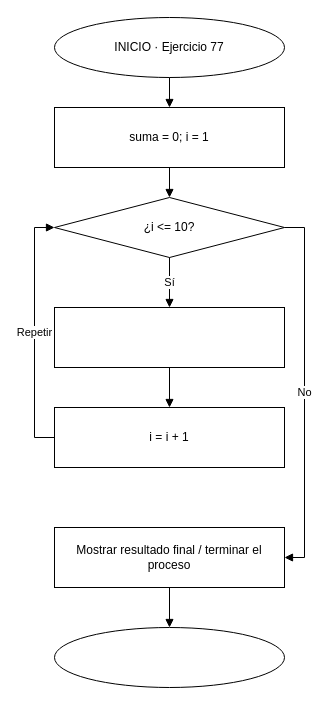
Some shapes in this 330 by 705 pixel diagram are drawn without their labels. The centre of each missing label's shape, as x and y in pixels:
"FIN" goes at point 169,657.
"suma = suma + i * 2" goes at point 169,337.
